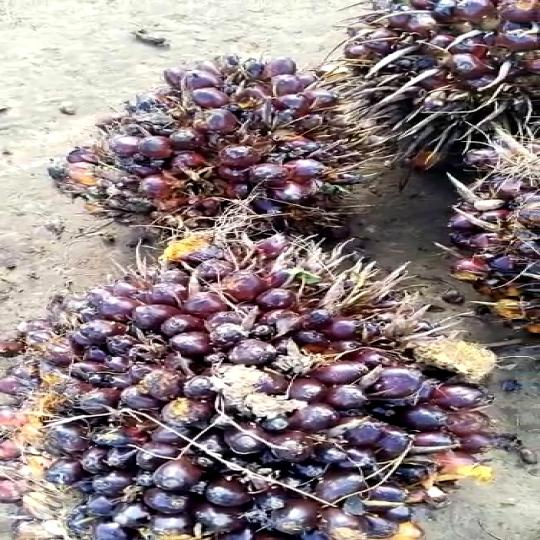masak: (0, 214, 468, 539), (63, 53, 395, 259)
